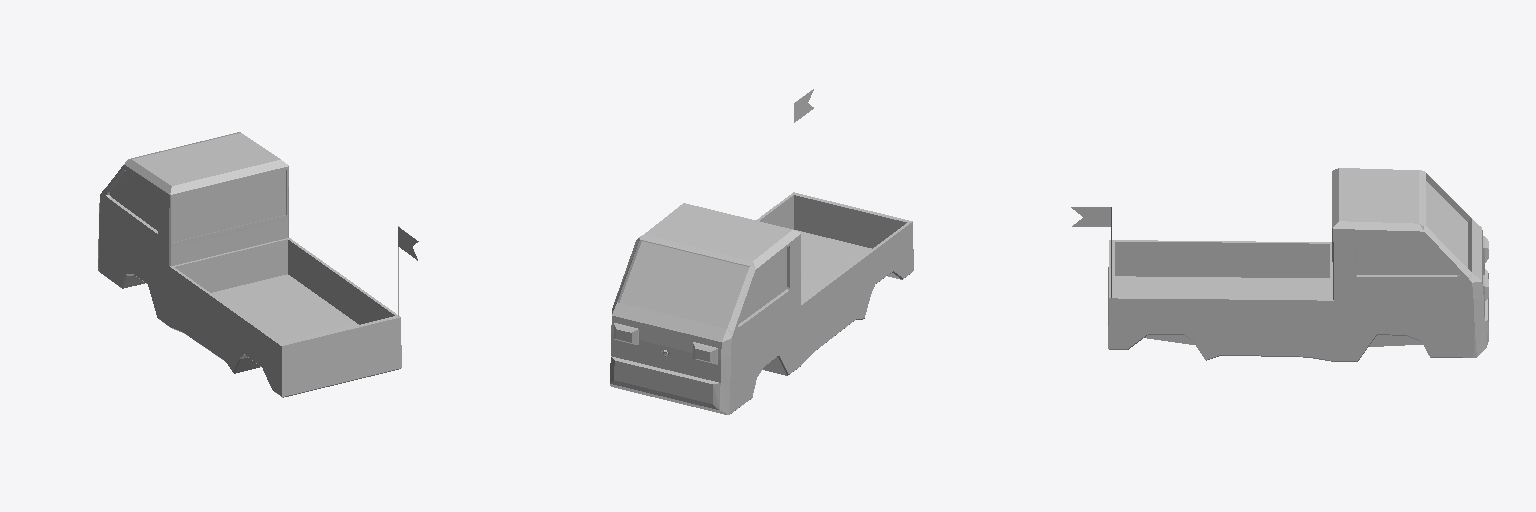
Rendered from TRUE TRUCK.obj.
3 renders of one model, left to right at view 1: azimuth 30°, elevation 25°; view 2: azimuth 150°, elevation 25°; view 3: azimuth 270°, elevation 25°, orthographic.
Visible parts, largest first — view 1: Suzanne; view 2: Suzanne; view 3: Suzanne.
Boxes of the visible parts, box(x1,y1,x2,y2) form: Suzanne: box(98, 132, 418, 397); Suzanne: box(610, 89, 913, 414); Suzanne: box(1071, 168, 1488, 361).
Bounding box in the file's own units: 1.32 × 1.63 × 3.99.